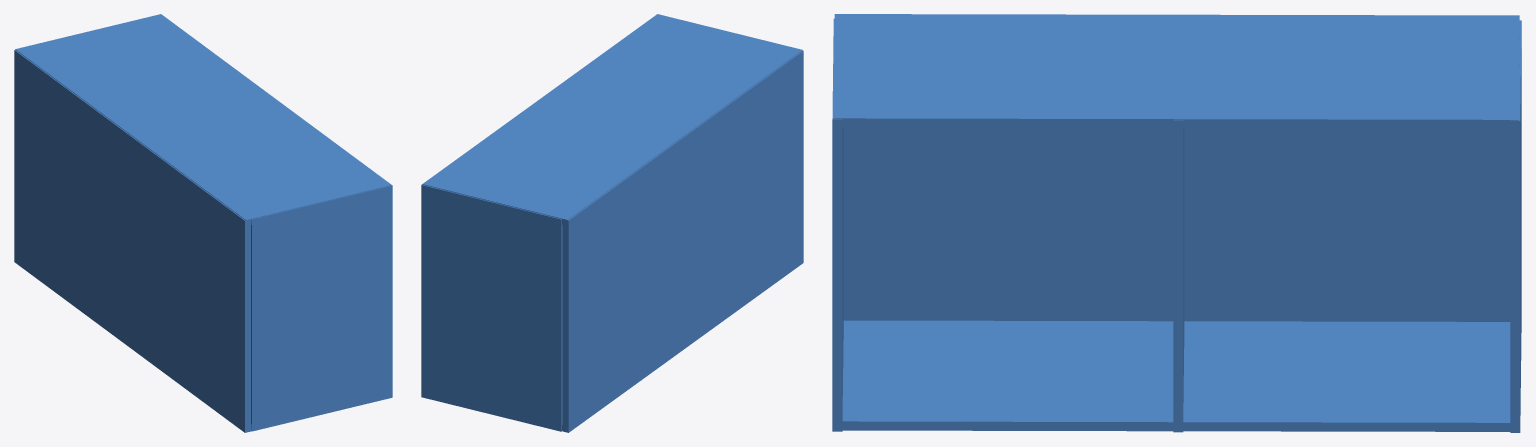
Rendered from Childrens_Room_Shelf.fbx.
The picture shows the model from 3 angles, left to right: view 1: azimuth 30°, elevation 25°; view 2: azimuth 150°, elevation 25°; view 3: azimuth 270°, elevation 25°; orthographic projection. The views are drawn at different scales.
Visible parts, largest first — view 1: Childrens_Room_Shelf; view 2: Childrens_Room_Shelf; view 3: Childrens_Room_Shelf.
Part boxes in pixels (<box>): Childrens_Room_Shelf: <box>14,14,392,432</box>; Childrens_Room_Shelf: <box>421,14,803,432</box>; Childrens_Room_Shelf: <box>832,14,1521,432</box>.
Size of the model in its own units: 80.86 by 110 by 220.
